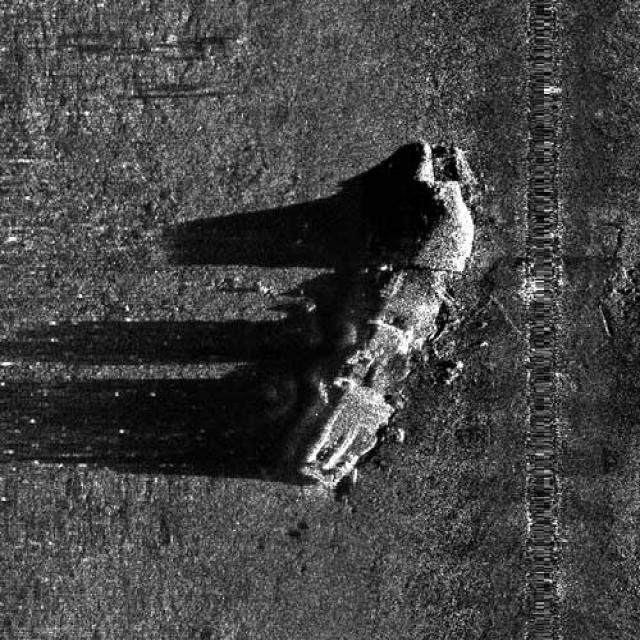ship: (304, 135, 478, 485)
